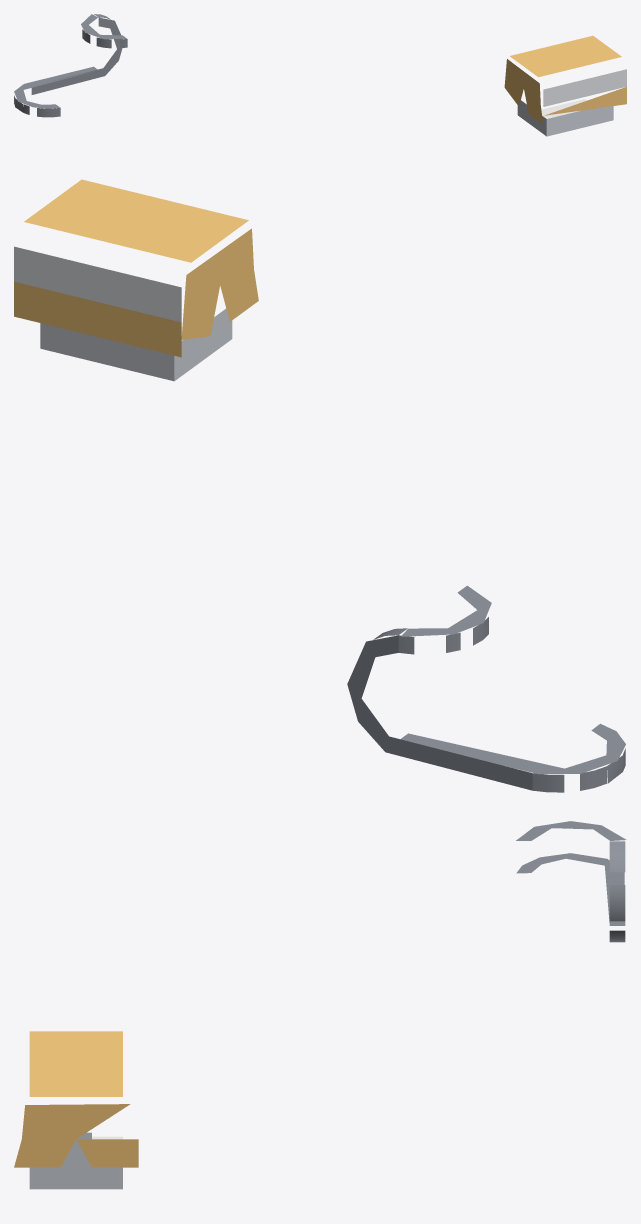
File: machine_generator_lod1.glb
3 renders of one model, top to bottom at view 1: azimuth 30°, elevation 25°; view 2: azimuth 150°, elevation 25°; view 3: azimuth 270°, elevation 25°, orthographic. The views are drawn at different scales.
Parts seen in each view (by area): view 1: machine_generator.001, cable.002; view 2: machine_generator.001, cable.002; view 3: machine_generator.001, cable.002.
Boxes of the visible parts, box(x1,y1,x2,y2) form: machine_generator.001: box(504, 35, 626, 136); cable.002: box(14, 14, 127, 117); machine_generator.001: box(14, 179, 258, 381); cable.002: box(347, 585, 625, 792); machine_generator.001: box(14, 1031, 138, 1189); cable.002: box(516, 821, 626, 942).
Size of the model in its own units: 2.6 by 0.4 by 1.97.
